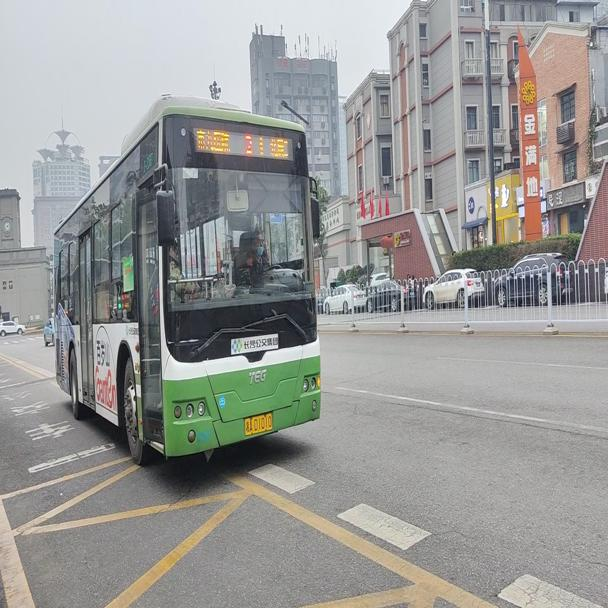bus: (52, 94, 323, 461)
screen: (238, 130, 256, 162)
